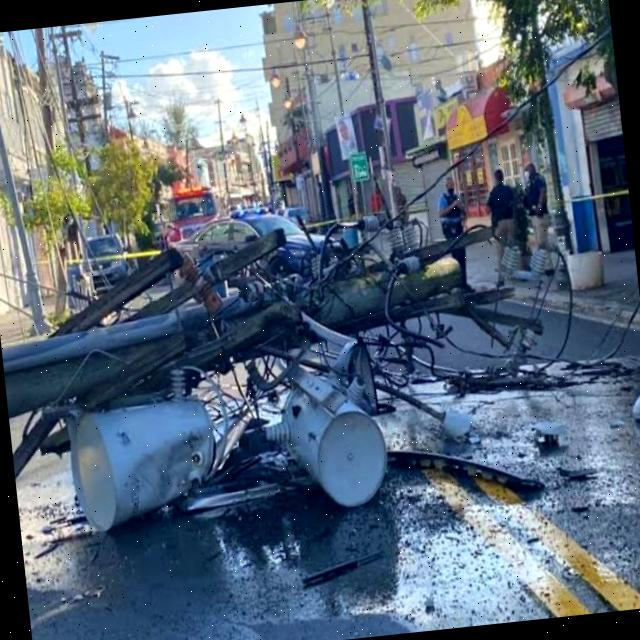Broken Pole: (3, 209, 574, 529)
